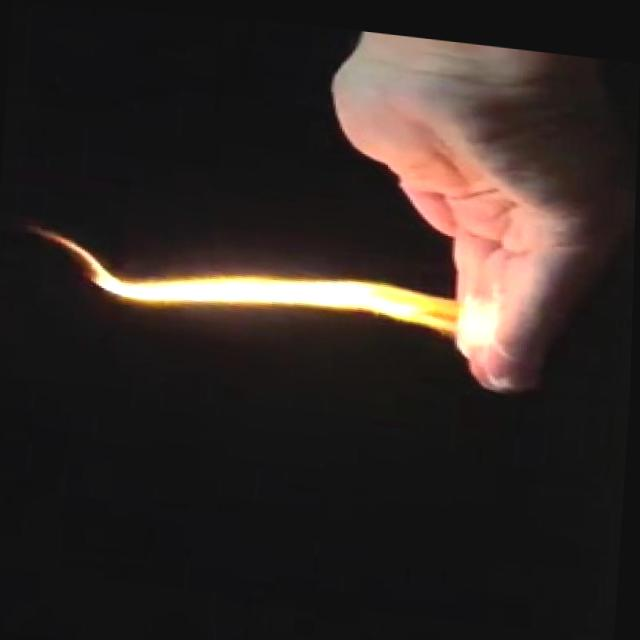Fire: (33, 223, 507, 352)
